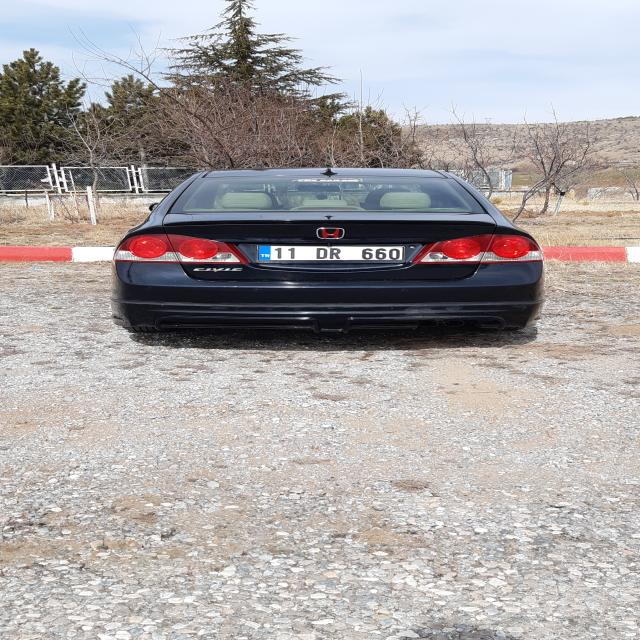plate: (256, 245, 404, 261)
